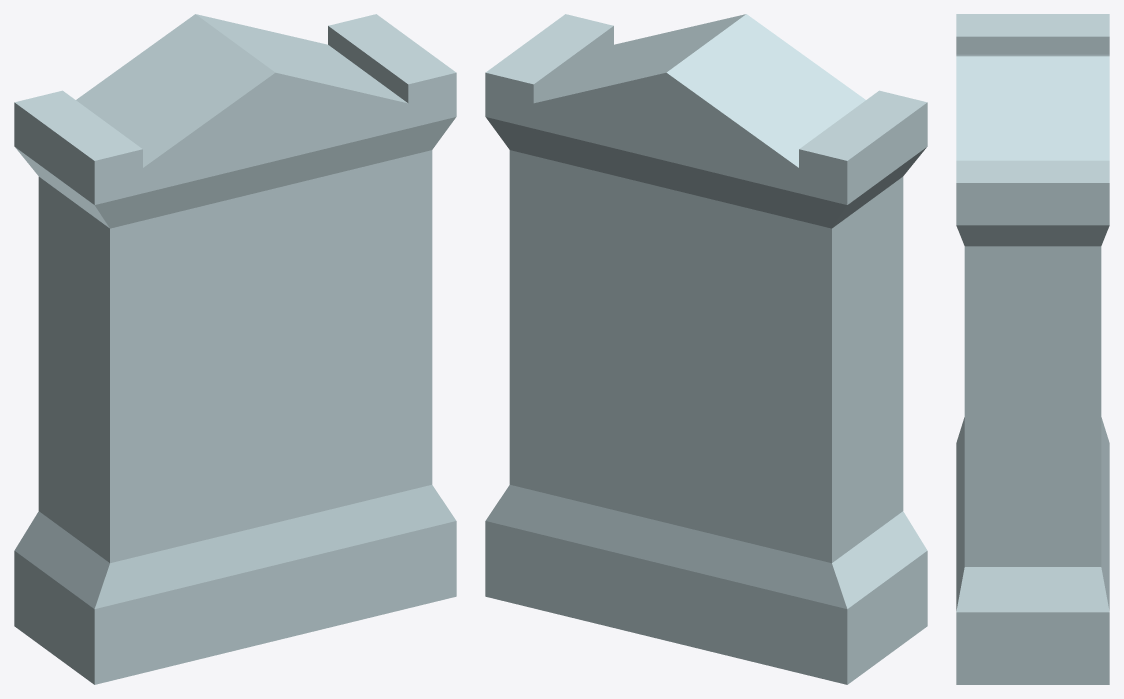
Rendered from gravestoneDecorative.glb.
3 views of the same model, side by side, from view 1: azimuth 30°, elevation 25°; view 2: azimuth 150°, elevation 25°; view 3: azimuth 270°, elevation 25° (orthographic). The views are drawn at different scales.
Visible parts, largest first — view 1: gravestoneDecorative; view 2: gravestoneDecorative; view 3: gravestoneDecorative.
Boxes of the visible parts, bbox=[...] form: gravestoneDecorative: bbox=[14, 14, 456, 684]; gravestoneDecorative: bbox=[485, 14, 927, 684]; gravestoneDecorative: bbox=[956, 14, 1109, 684].
Size of the model in its own units: 0.39 by 0.585 by 0.1495.
